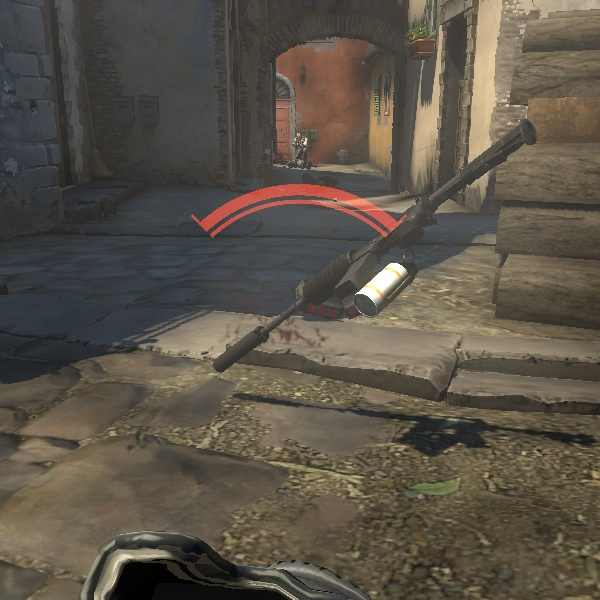t_body: (283, 127, 317, 166)
